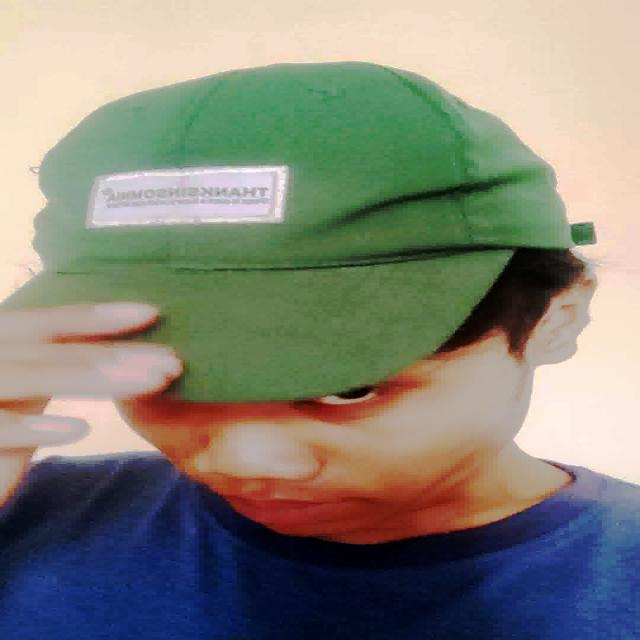TOPI: (0, 45, 591, 404)
